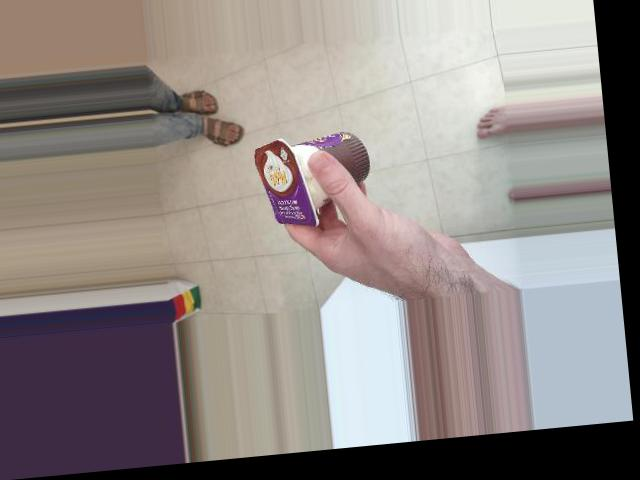milky: (237, 76, 334, 213)
